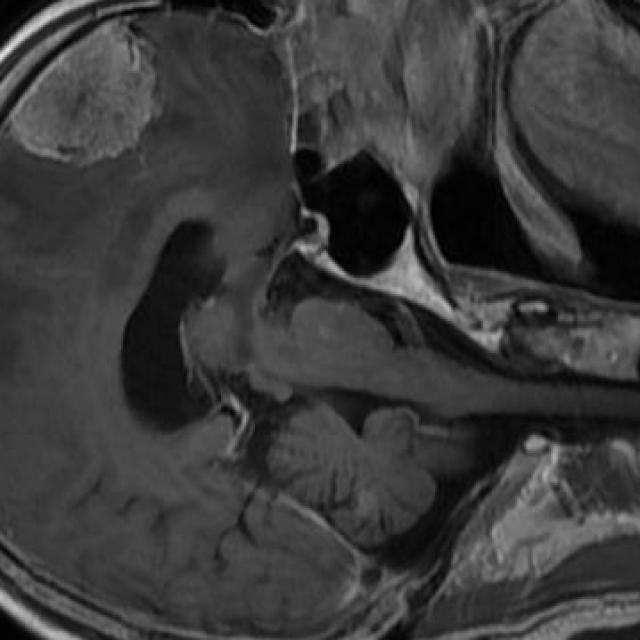meningioma: (11, 25, 148, 155)
